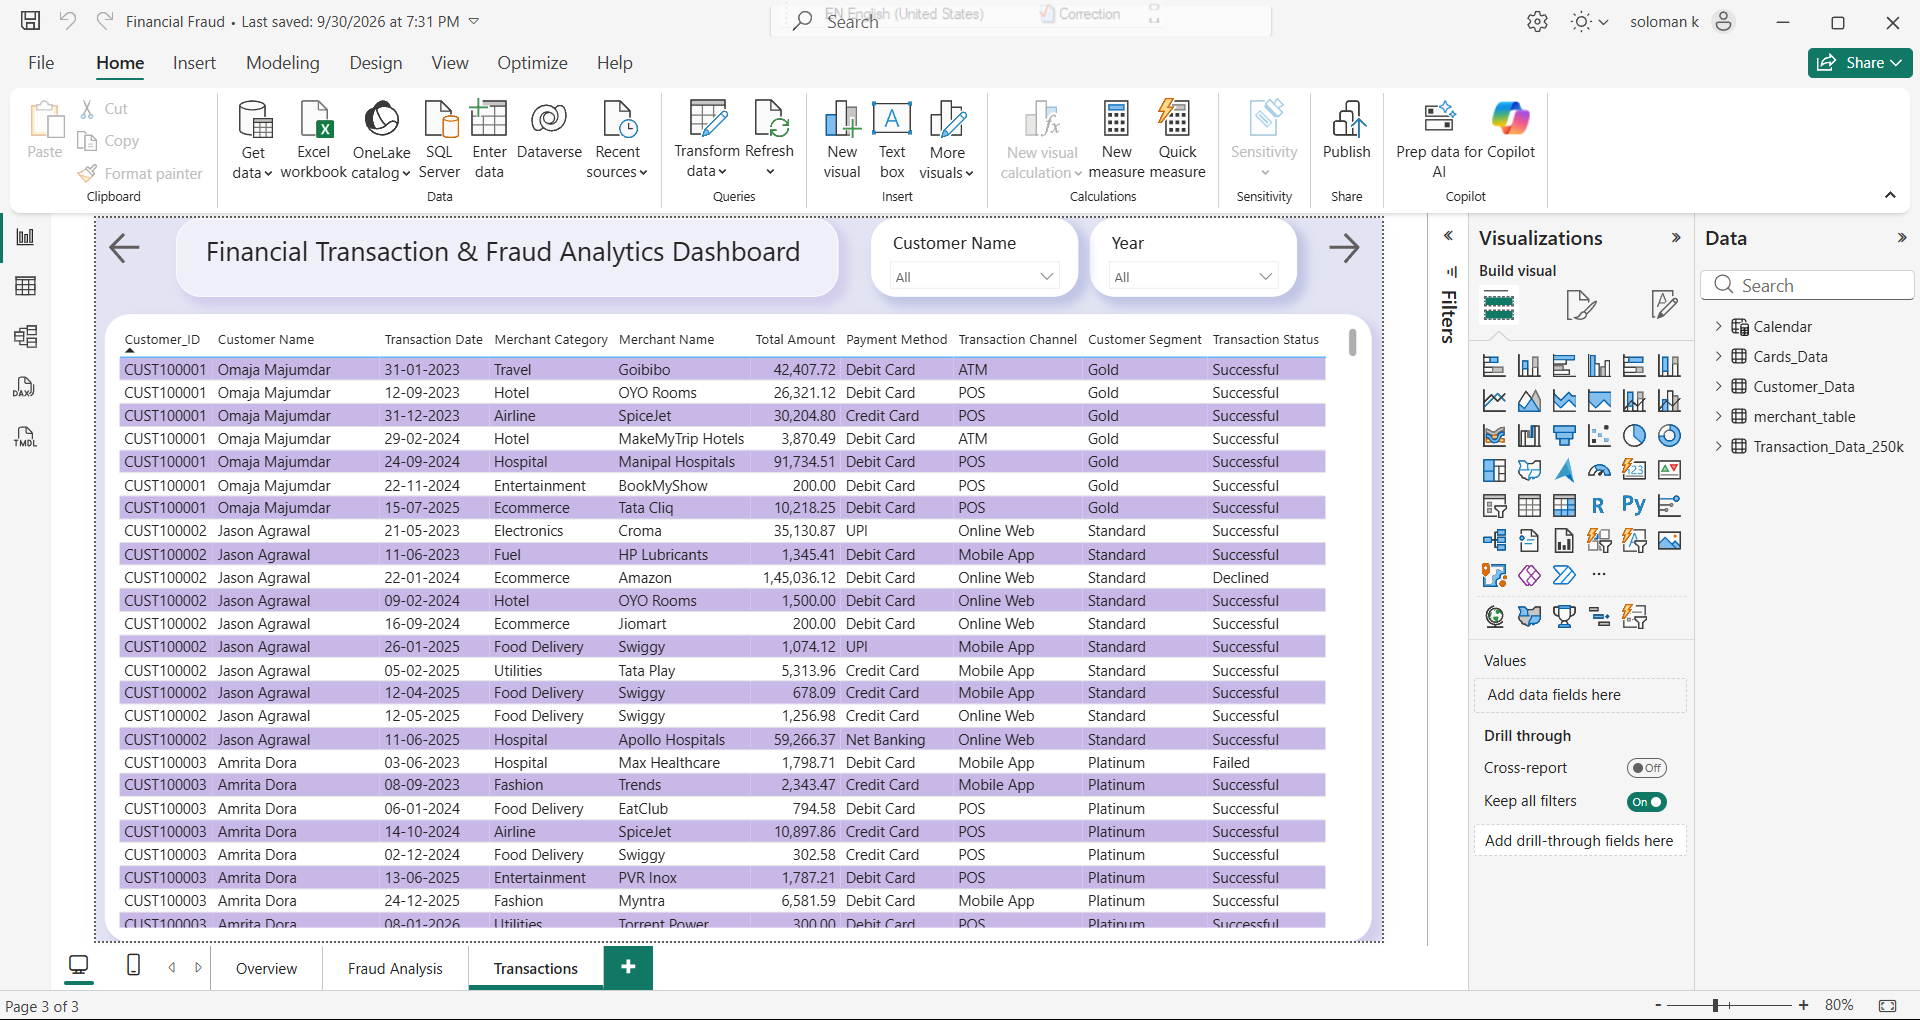

What the dashboard file says about the page in this screenshot:
{"tool":"powerbi","page":{"name":"Transactions","canvas":[1280,720],"ordinal":2},"visuals":[{"type":"textbox","box":[79.5,0,659.1,78.3],"z":0},{"type":"slicer","title":"Year","fields":{"Values":["Calender.Date.Variation.Date Hierarchy.Year"]},"box":[989.3,0,206.7,78.3],"z":1000},{"type":"actionButton","box":[1221.6,9.8,47.7,40.4],"z":2000},{"type":"actionButton","box":[8.6,9.8,46.5,40.4],"z":3000},{"type":"tableEx","fields":{"Values":["Transaction_Data_250k.Customer_ID","Cusmtomer_data.Customer_Name","Transaction_Data_250k.Transaction_Date","merchant_table.Merchant_Category","merchant_table.Merchant_Name","Transaction_Data_250k.Total-Amount","Transaction_Data_250k.Payment_Method","Transaction_Data_250k.Transaction_Channel","Cusmtomer_data.Customer_Segment","Transaction_Data_250k.Transaction_Status"]},"box":[8.6,95.4,1260.7,624.9],"z":4000},{"type":"slicer","title":"Year","fields":{"Values":["Cusmtomer_data.Customer_Name"]},"box":[771.6,0,206.7,78.3],"z":5000}]}

Visuals, with their boxes on the page's 1280x720 design canvas (x1, y1, x2, y2). These are canvas units, not pixel positions in the 1920x1020 screenshot, which may show the page scaled, cropped or inside an application window:
textbox: l=80, t=0, r=739, b=78
"Year" slicer: l=989, t=0, r=1196, b=78
actionButton: l=1222, t=10, r=1269, b=50
actionButton: l=9, t=10, r=55, b=50
tableEx - Transaction_Data_250k.Customer_ID x Cusmtomer_data.Customer_Name: l=9, t=95, r=1269, b=720
"Year" slicer: l=772, t=0, r=978, b=78
